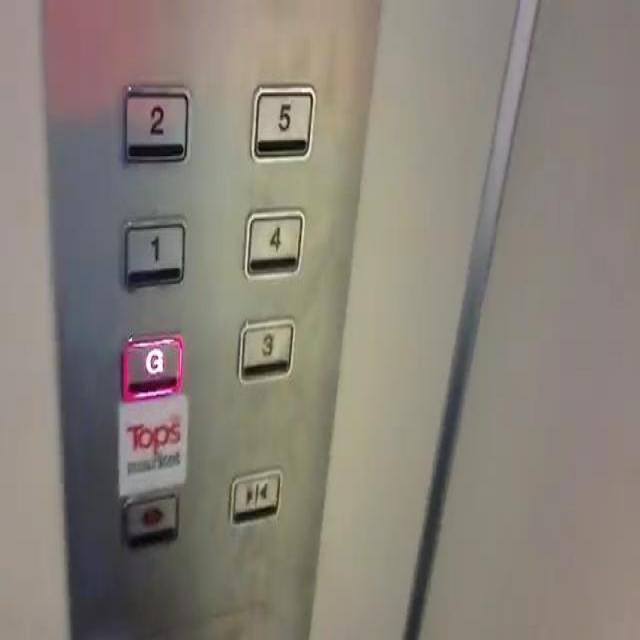1: (120, 208, 187, 293)
2: (118, 79, 191, 168)
3: (234, 311, 296, 388)
4: (240, 201, 304, 283)
5: (246, 78, 317, 166)
G: (118, 332, 186, 400)
close: (224, 464, 282, 529)
open: (119, 488, 180, 551)
